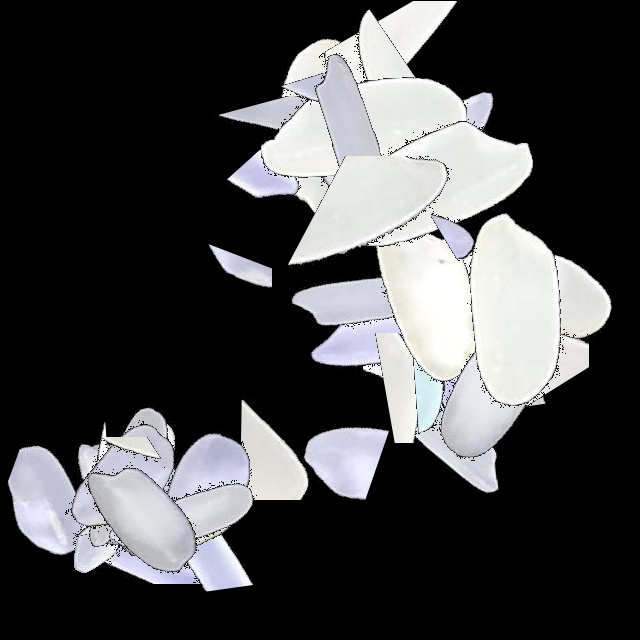Broken: (1, 390, 167, 640), (390, 300, 640, 462), (116, 385, 278, 635), (0, 424, 250, 584), (339, 0, 499, 250), (363, 255, 522, 505), (435, 198, 589, 448), (265, 156, 515, 308), (184, 375, 434, 516), (169, 96, 419, 236), (305, 1, 555, 129), (378, 284, 628, 409), (412, 210, 537, 460), (311, 0, 435, 250), (175, 382, 425, 500), (23, 351, 137, 601), (316, 333, 566, 443), (0, 323, 107, 573), (172, 177, 272, 427), (431, 77, 528, 327), (225, 76, 316, 326), (341, 69, 432, 319), (325, 315, 575, 402), (258, 0, 344, 250), (365, 287, 615, 371), (0, 437, 250, 519), (528, 245, 607, 495)
Full: (199, 0, 449, 250), (289, 218, 539, 468), (237, 169, 487, 419), (352, 220, 602, 470), (291, 0, 541, 250), (0, 370, 250, 620), (12, 375, 262, 625), (0, 376, 250, 626), (262, 17, 512, 267), (226, 23, 476, 273), (390, 164, 640, 414), (321, 316, 571, 566), (239, 0, 489, 250), (301, 164, 551, 414), (367, 264, 617, 514), (81, 364, 331, 614), (311, 60, 561, 310), (0, 350, 250, 600), (56, 390, 306, 640), (0, 357, 250, 607), (390, 185, 640, 435), (18, 390, 268, 640), (222, 0, 472, 250)
